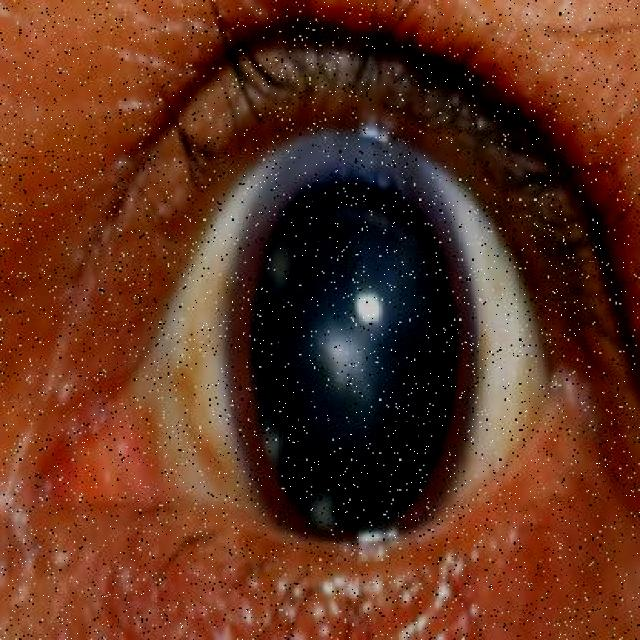Cataract: (211, 103, 489, 552)
